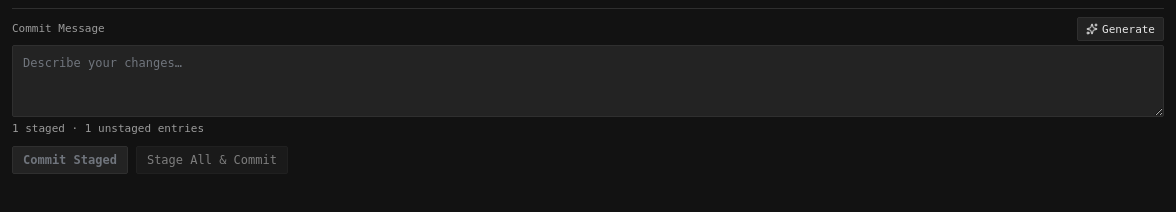
uses existing configured inference IPC, restores editor focus and preserves generation errors/drafts
The image size is (1176, 212).
Click the button "Generate".
click(1120, 29)  # box x1=1077 y1=17 x2=1164 y2=41
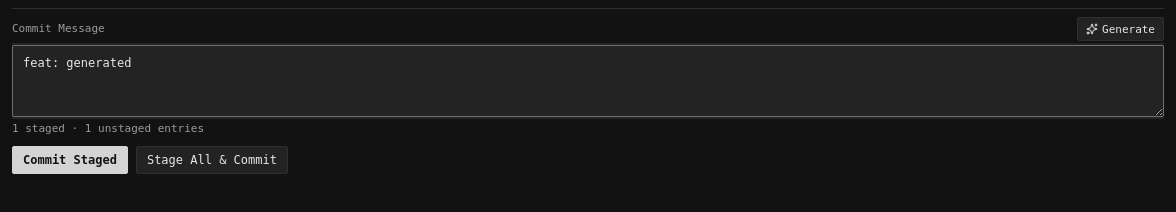
Result: the text box holds "feat: generated" at x1=12 y1=45 x2=1164 y2=117
Click the button "Generate".
click(1120, 29)  # box x1=1077 y1=17 x2=1164 y2=41
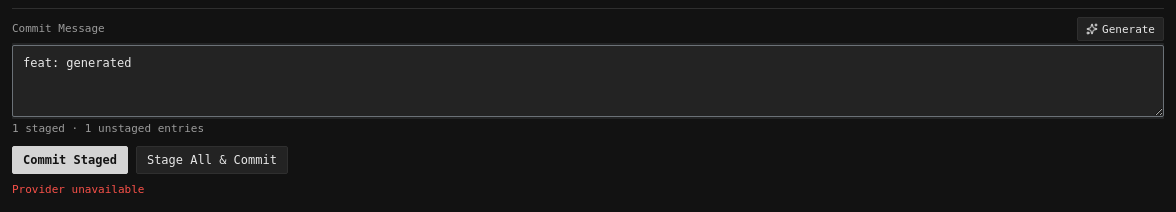
Result: the text box holds "feat: generated" at x1=12 y1=45 x2=1164 y2=117
Result: the text "Provider unavailable" is shown at x1=12 y1=182 x2=144 y2=196
Click the button "Generate".
click(1120, 29)  # box x1=1077 y1=17 x2=1164 y2=41
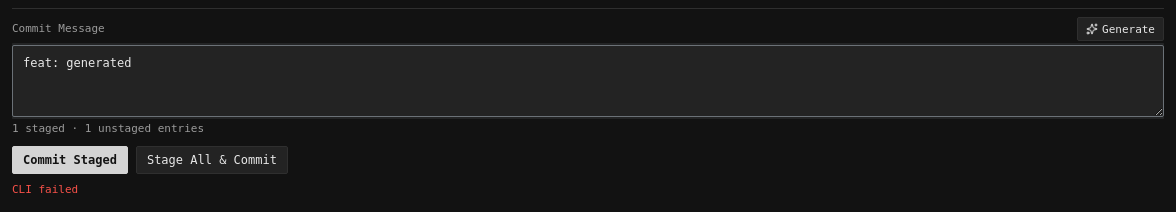
Result: the text "CLI failed" is shown at x1=12 y1=182 x2=78 y2=196
